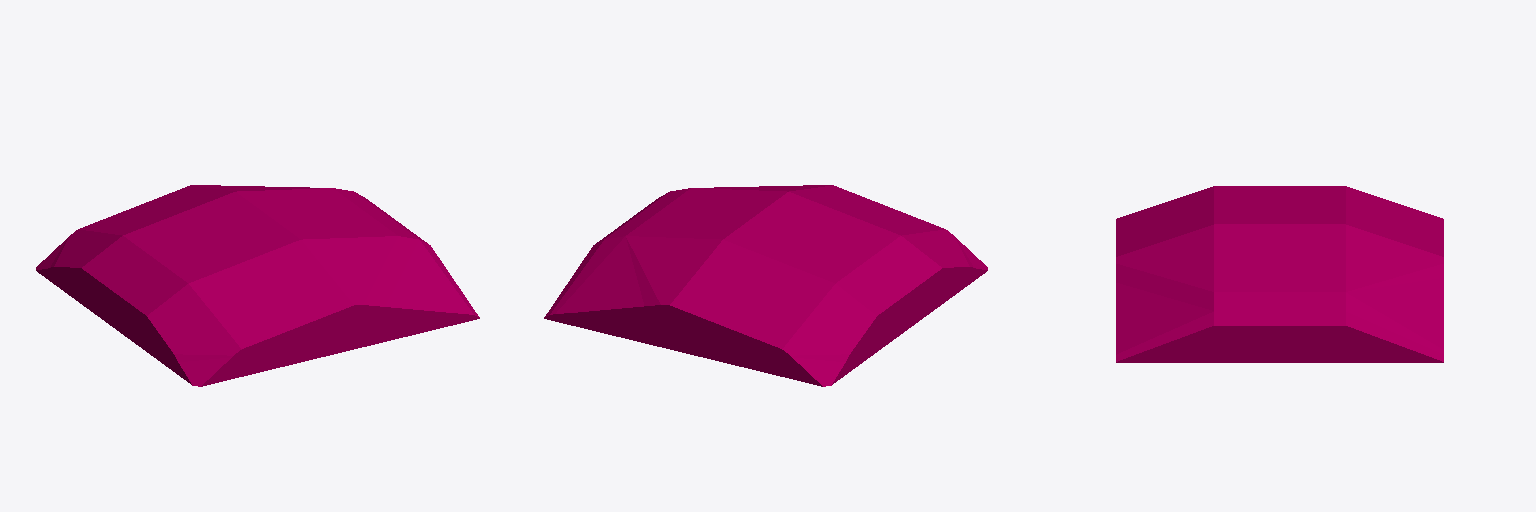
3 renders of one model, left to right at view 1: azimuth 30°, elevation 25°; view 2: azimuth 150°, elevation 25°; view 3: azimuth 270°, elevation 25°, orthographic.
Visible parts, largest first — view 1: Mball.001; view 2: Mball.001; view 3: Mball.001.
Boxes of the visible parts, box(x1,y1,x2,y2) form: Mball.001: box(36, 185, 479, 386); Mball.001: box(544, 185, 987, 386); Mball.001: box(1116, 186, 1443, 362).
Bounding box in the file's own units: 2 × 0.5042 × 2.